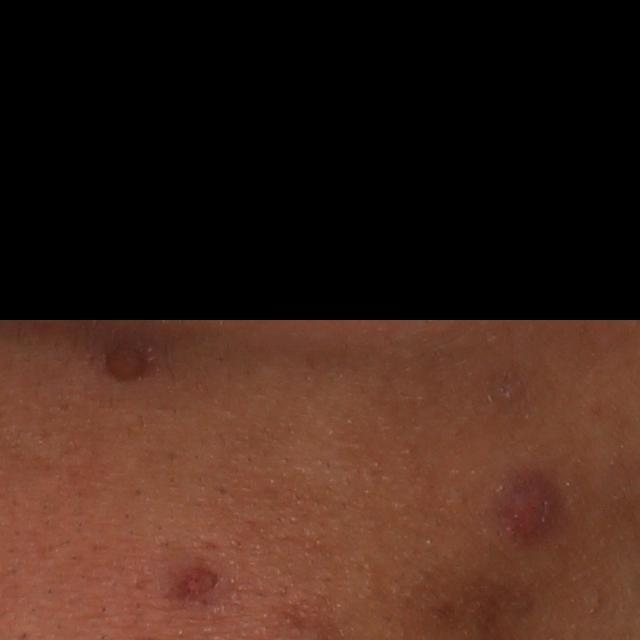papule: (490, 472, 566, 549)
